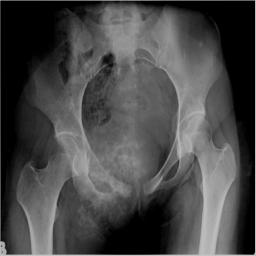cancer: (74, 132, 140, 248)
